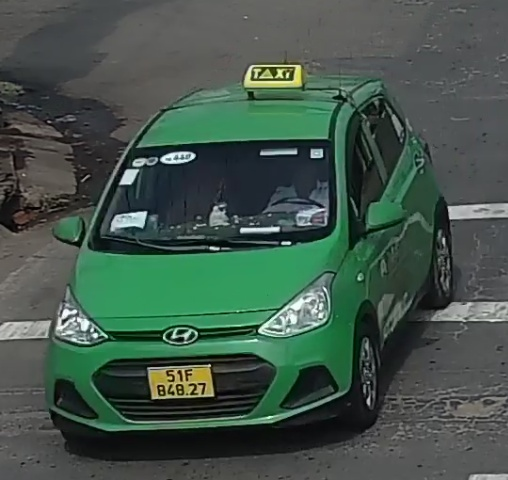vehicle plate: (143, 360, 221, 411)
